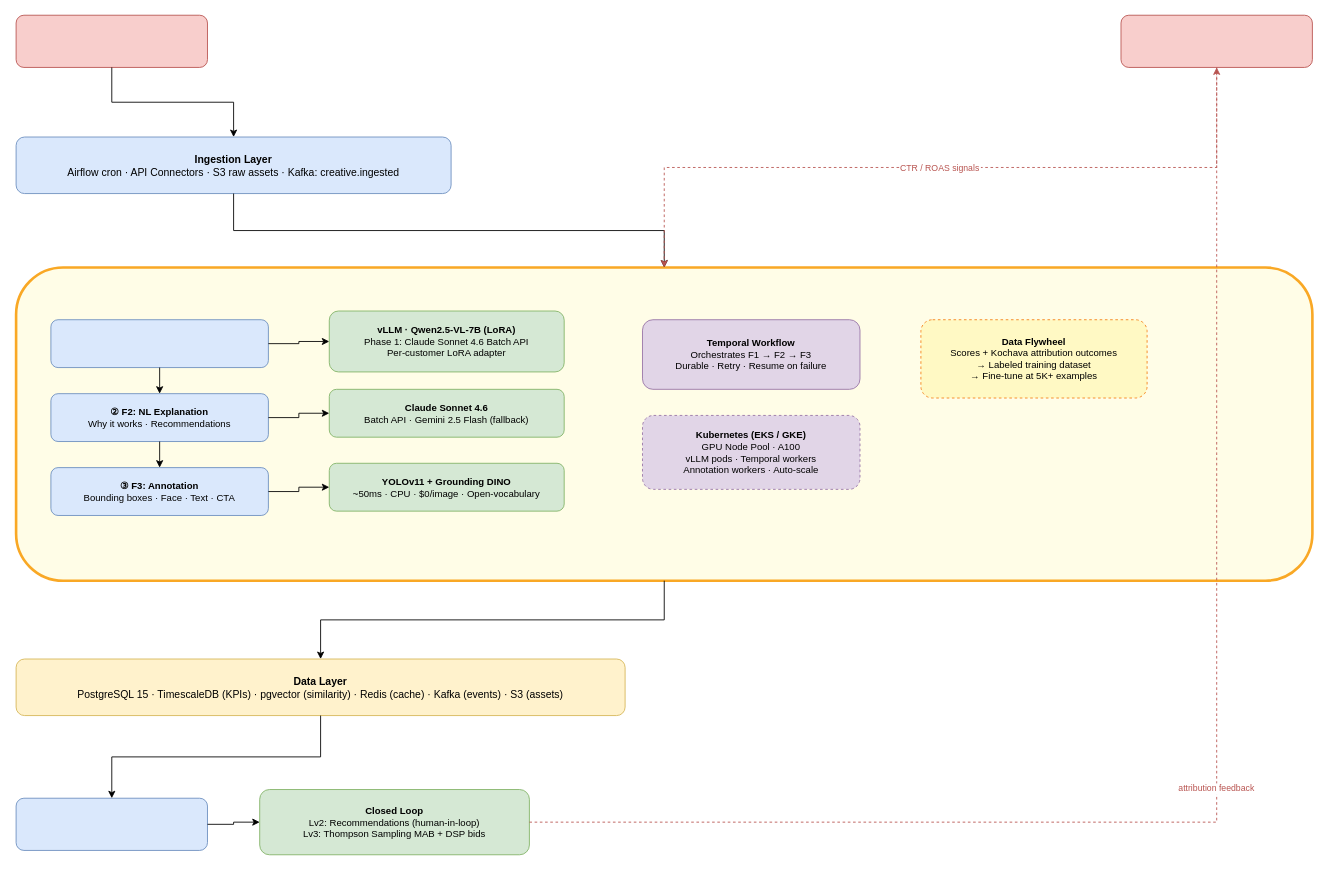
Image size: 1328x870. Some labels were removed from this diagram. The box of each missing label's shape, as (x1, y1, x2, y2) in pixels:
Ad Networks Meta · Google · TikTok: (15, 14, 207, 67)
Creative Core Engine: (14, 266, 1313, 582)
Dashboard Next.js · Ant Design: (15, 797, 207, 850)
Kochava Attribution Platform: (1120, 14, 1312, 67)
① F1: Structured Scoring 7 dimensions · 0–10 · Benchmark %: (50, 319, 268, 368)
